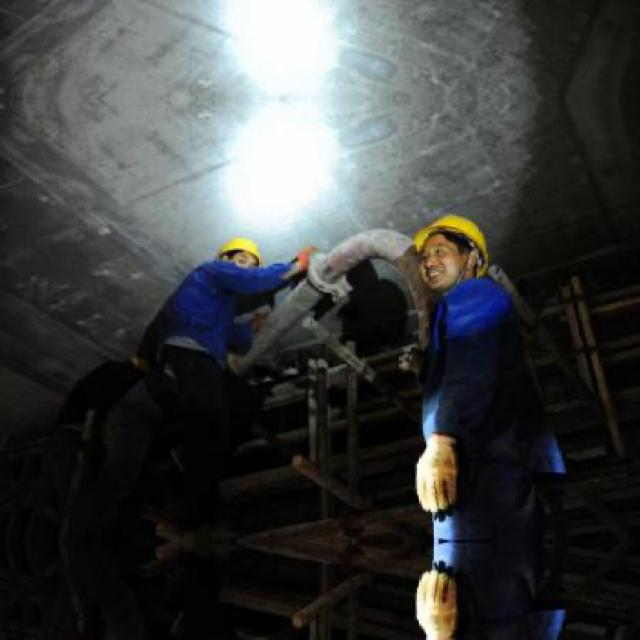con casco: (410, 207, 501, 320), (202, 218, 310, 296)
